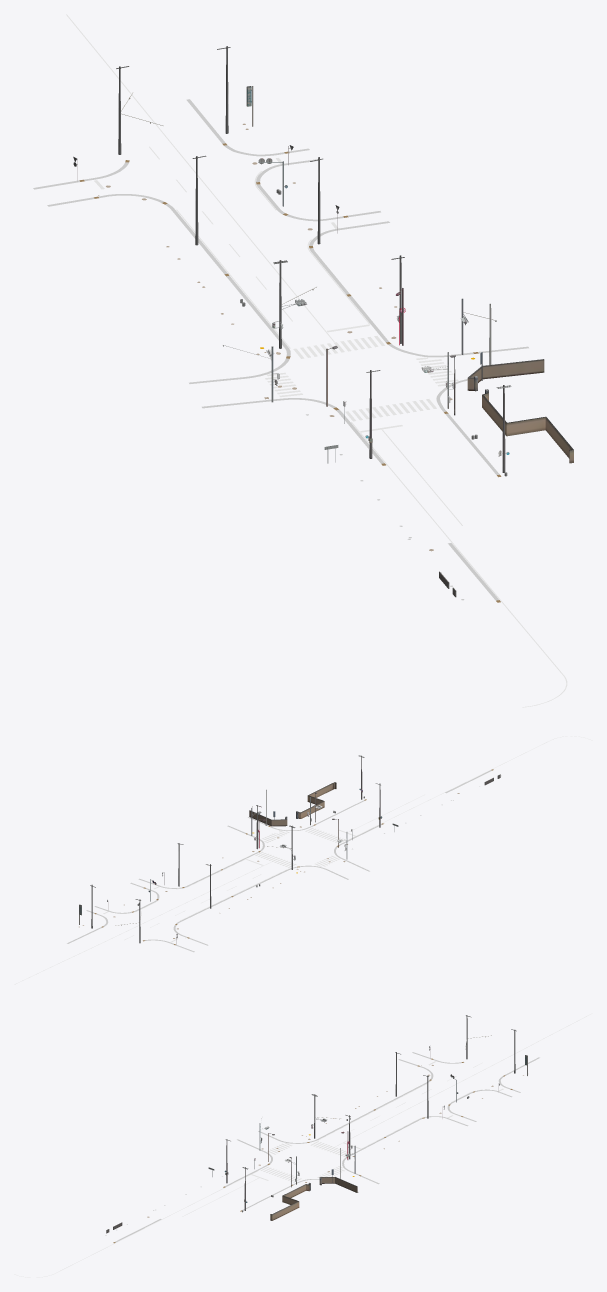
Rendered from frn--11.glb.
3 views of the same model, one above another, from view 1: azimuth 30°, elevation 25°; view 2: azimuth 150°, elevation 25°; view 3: azimuth 330°, elevation 25° (orthographic). The views are drawn at different scales.
Size of the model in its own units: 58.2 by 13.97 by 204.
Materials: 2 (1 with a texture image).
